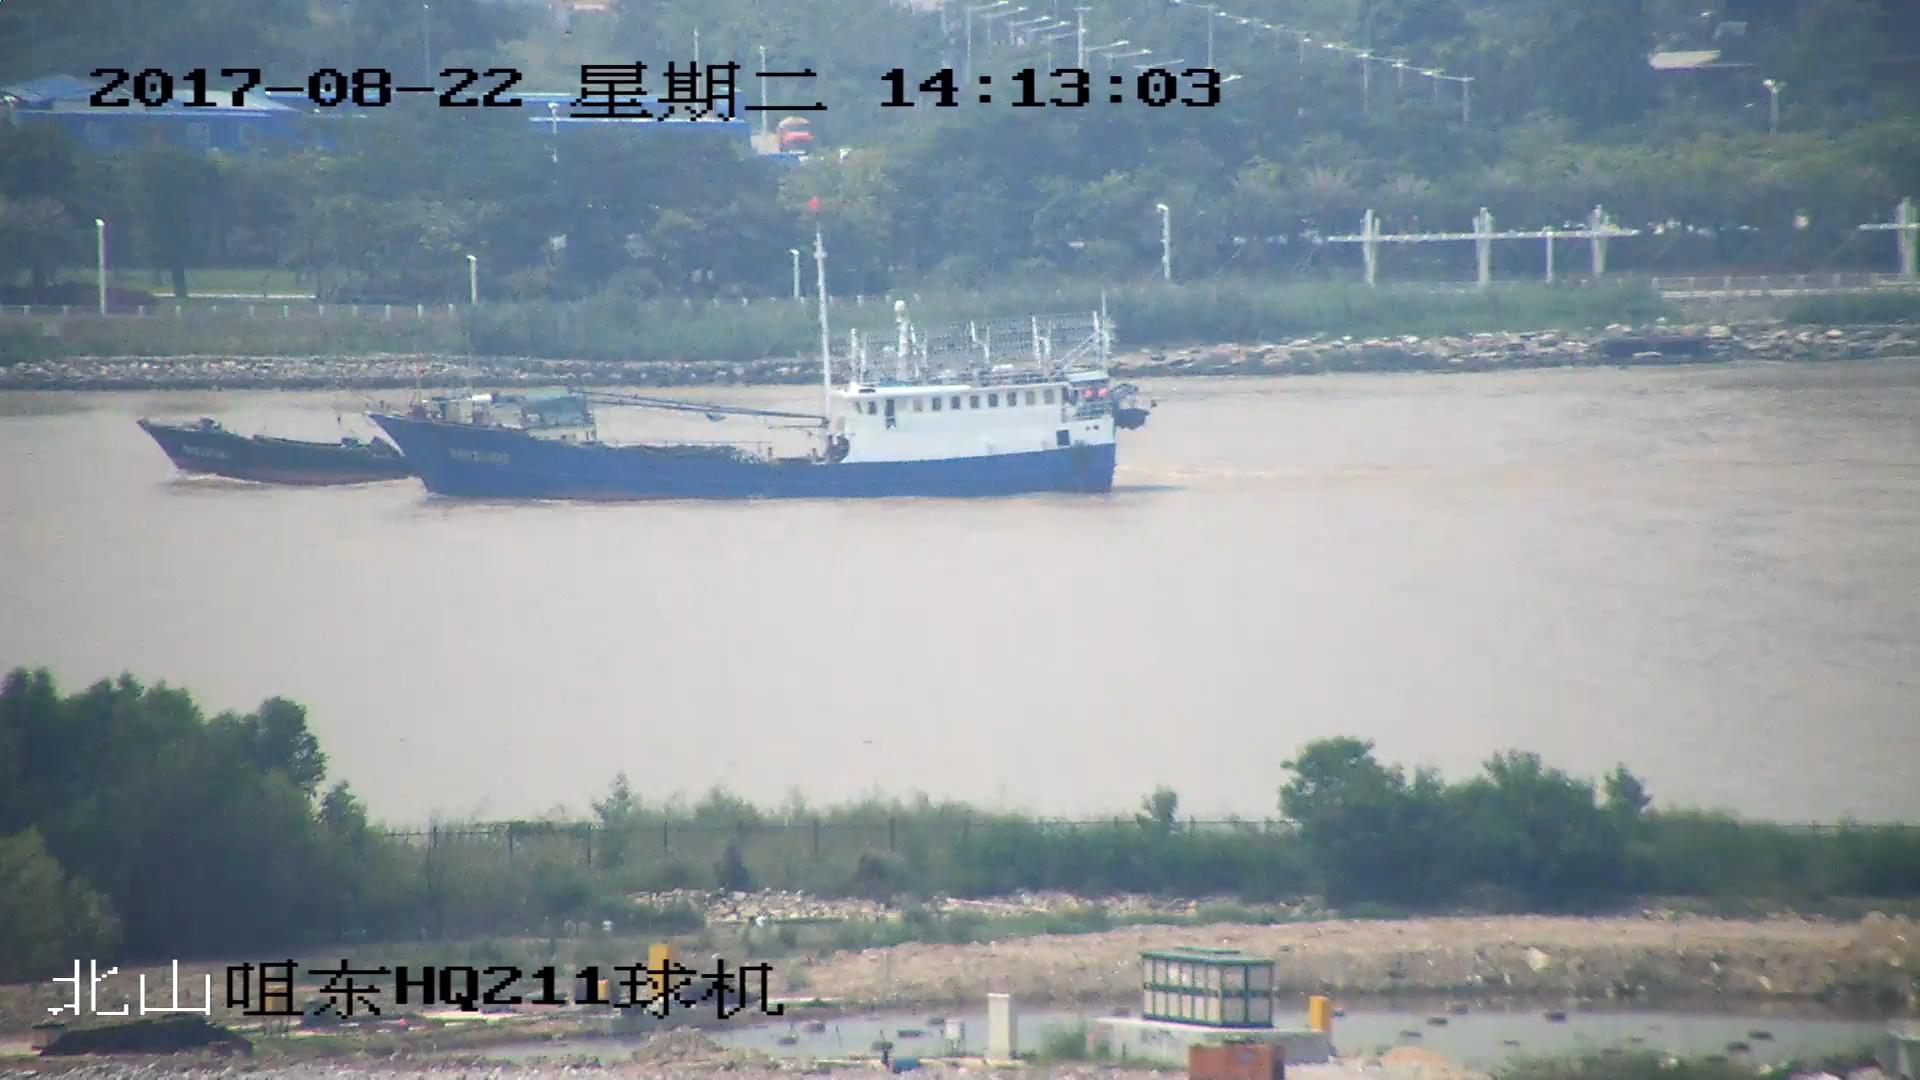fishing boat: (370, 197, 1151, 503), (144, 393, 599, 488)
